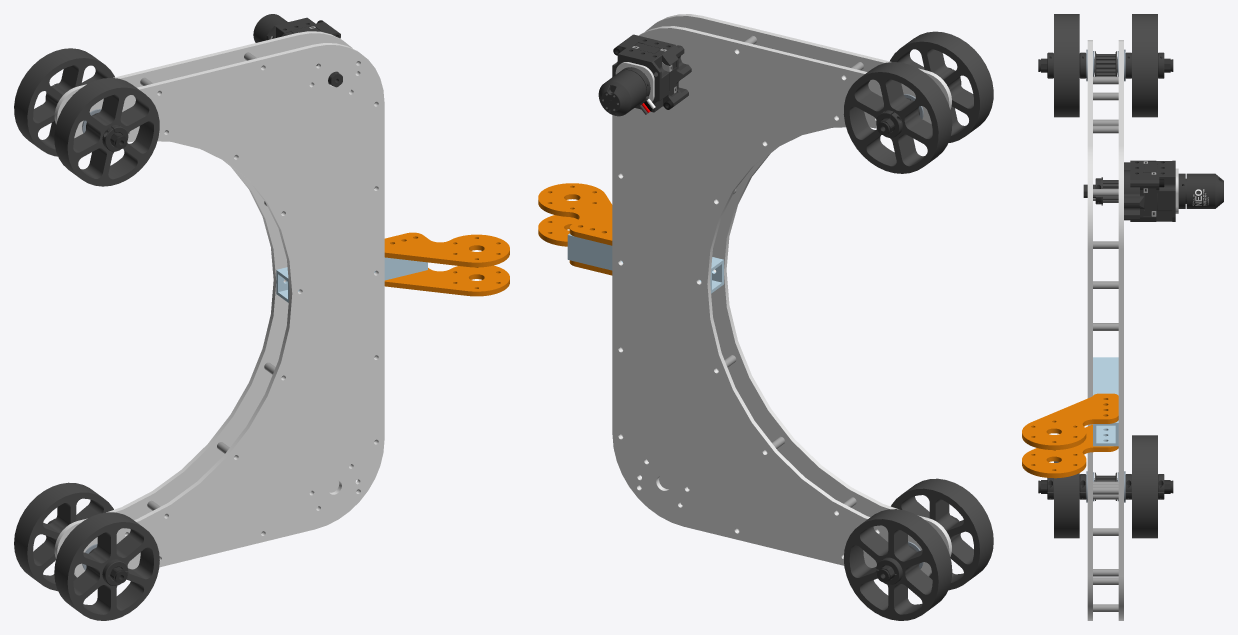
3 views of the same model, side by side, from view 1: azimuth 30°, elevation 25°; view 2: azimuth 150°, elevation 25°; view 3: azimuth 270°, elevation 25° (orthographic). The views are drawn at different scales.
Parts seen in each view (by area): view 1: Silly (×2), 4 Inch Thrifty Squish Wheel (TTB-0057) (×4), Part 6 (×2), Part 5; view 2: Silly (×2), 4 Inch Thrifty Squish Wheel (TTB-0057) (×4), Part 6 (×2), NEO 550 Brushless Motor (REV-21-1651), Part 5, REV-21-2106, REV-21-2104, REV-21-2101; view 3: 4 Inch Thrifty Squish Wheel (TTB-0057) (×4), Silly (×2), Part 6 (×2), NEO 550 Brushless Motor (REV-21-1651), Part 5, REV-21-2104, REV-21-2106, 15t 15mm Wide 1/2" Hex Bore Double Flange 5mm HTD Aluminum P (×2), REV-21-2101, Shaft.
Part boxes in pixels (x1=…): Silly (×2): x1=54, y1=31, x2=384, y2=577; 4 Inch Thrifty Squish Wheel (TTB-0057) (×4): x1=14, y1=48, x2=159, y2=620; Part 6 (×2): x1=384, y1=232, x2=509, y2=296; Part 5: x1=276, y1=257, x2=427, y2=302; Silly (×2): x1=612, y1=14, x2=951, y2=576; 4 Inch Thrifty Squish Wheel (TTB-0057) (×4): x1=843, y1=31, x2=993, y2=620; Part 6 (×2): x1=538, y1=183, x2=612, y2=275; NEO 550 Brushless Motor (REV-21-1651): x1=598, y1=67, x2=655, y2=116; Part 5: x1=567, y1=233, x2=723, y2=293; REV-21-2106: x1=612, y1=44, x2=675, y2=112; REV-21-2104: x1=626, y1=34, x2=691, y2=100; REV-21-2101: x1=620, y1=39, x2=681, y2=105; 4 Inch Thrifty Squish Wheel (TTB-0057) (×4): x1=1054, y1=14, x2=1157, y2=538; Silly (×2): x1=1087, y1=40, x2=1123, y2=620; Part 6 (×2): x1=1022, y1=393, x2=1118, y2=478; NEO 550 Brushless Motor (REV-21-1651): x1=1178, y1=173, x2=1223, y2=208; Part 5: x1=1093, y1=357, x2=1118, y2=446; REV-21-2104: x1=1124, y1=160, x2=1144, y2=221; REV-21-2106: x1=1156, y1=160, x2=1175, y2=221; 15t 15mm Wide 1/2" Hex Bore Double Flange 5mm HTD Aluminum P (×2): x1=1094, y1=51, x2=1118, y2=205; REV-21-2101: x1=1143, y1=160, x2=1157, y2=221; Shaft: x1=1038, y1=58, x2=1173, y2=72.
Bounding box in the file's own units: 0.4825 × 0.5587 × 0.1985.
